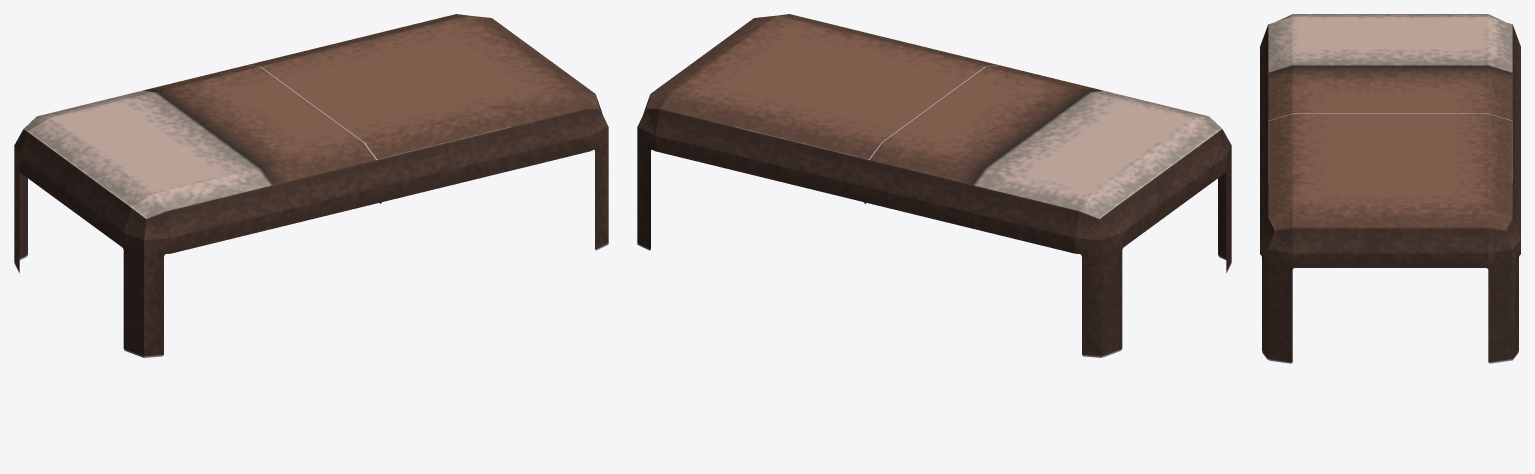
The model's file is BED.dae.
3 views of the same model, side by side, from view 1: azimuth 30°, elevation 25°; view 2: azimuth 150°, elevation 25°; view 3: azimuth 270°, elevation 25° (orthographic). The views are drawn at different scales.
Parts seen in each view (by area): view 1: Cube; view 2: Cube; view 3: Cube.
Boxes of the visible parts, box(x1,y1,x2,y2) form: Cube: box(14, 14, 608, 357); Cube: box(637, 14, 1231, 357); Cube: box(1260, 14, 1520, 363).
Bounding box in the file's own units: 4 × 2 × 2.
Materials: 1 (1 with a texture image).
